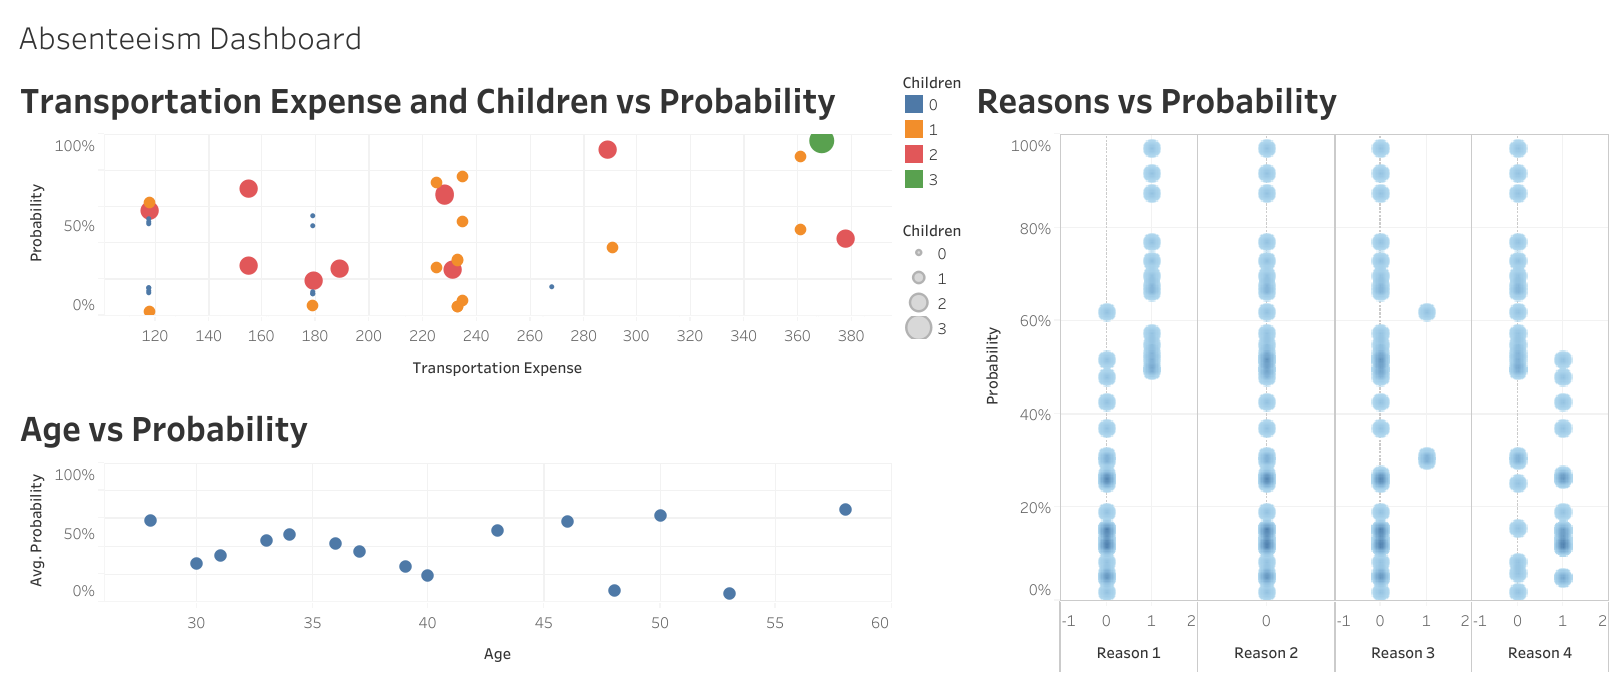

The dashboard page shown, as its layout file describes it:
{"tool":"tableau","page":{"name":"Absenteeism Dashboard","canvas":[1300,550],"ordinal":0},"visuals":[{"type":"title","box":[8,8,1284,42]},{"type":"worksheet","title":"Transportation Expense and Children vs Probability","mark":"Circle","rows":["Probability"],"cols":["Transportation Expense"],"box":[8,50,709,262.6]},{"type":"legend","title":"Transportation Expense and Children vs Probability","param":"[federated.1k6au3z1vxyj0b17n03yr1m4n2xp].[none:Children:ok]","box":[717,50,56,118.8]},{"type":"worksheet","title":"Reasons vs Probability","mark":"Heatmap","rows":["Probability"],"cols":["Reason_1","Reason_2","Reason_3","Reason_4"],"box":[773,50,519,492]},{"type":"legend","title":"Transportation Expense and Children vs Probability","param":"[federated.1k6au3z1vxyj0b17n03yr1m4n2xp].[none:Children:ok]","box":[717,168.9,56,373.1]},{"type":"worksheet","title":"Age vs Probability","mark":"Circle","rows":["Probability"],"cols":["Age"],"box":[8,312.6,709,229.4]}]}

Visuals, with their boxes in screenshot pixels (x1, y1, x2, y2), scaled from the page's 1300x550 canvas onto the 1624x686 screenshot:
title: <box>10,10,1614,62</box>
"Transportation Expense and Children vs Probability" worksheet (Circle marks): <box>10,62,896,390</box>
"Transportation Expense and Children vs Probability" legend: <box>896,62,966,211</box>
"Reasons vs Probability" worksheet (Heatmap marks): <box>966,62,1614,676</box>
"Transportation Expense and Children vs Probability" legend: <box>896,211,966,676</box>
"Age vs Probability" worksheet (Circle marks): <box>10,390,896,676</box>
